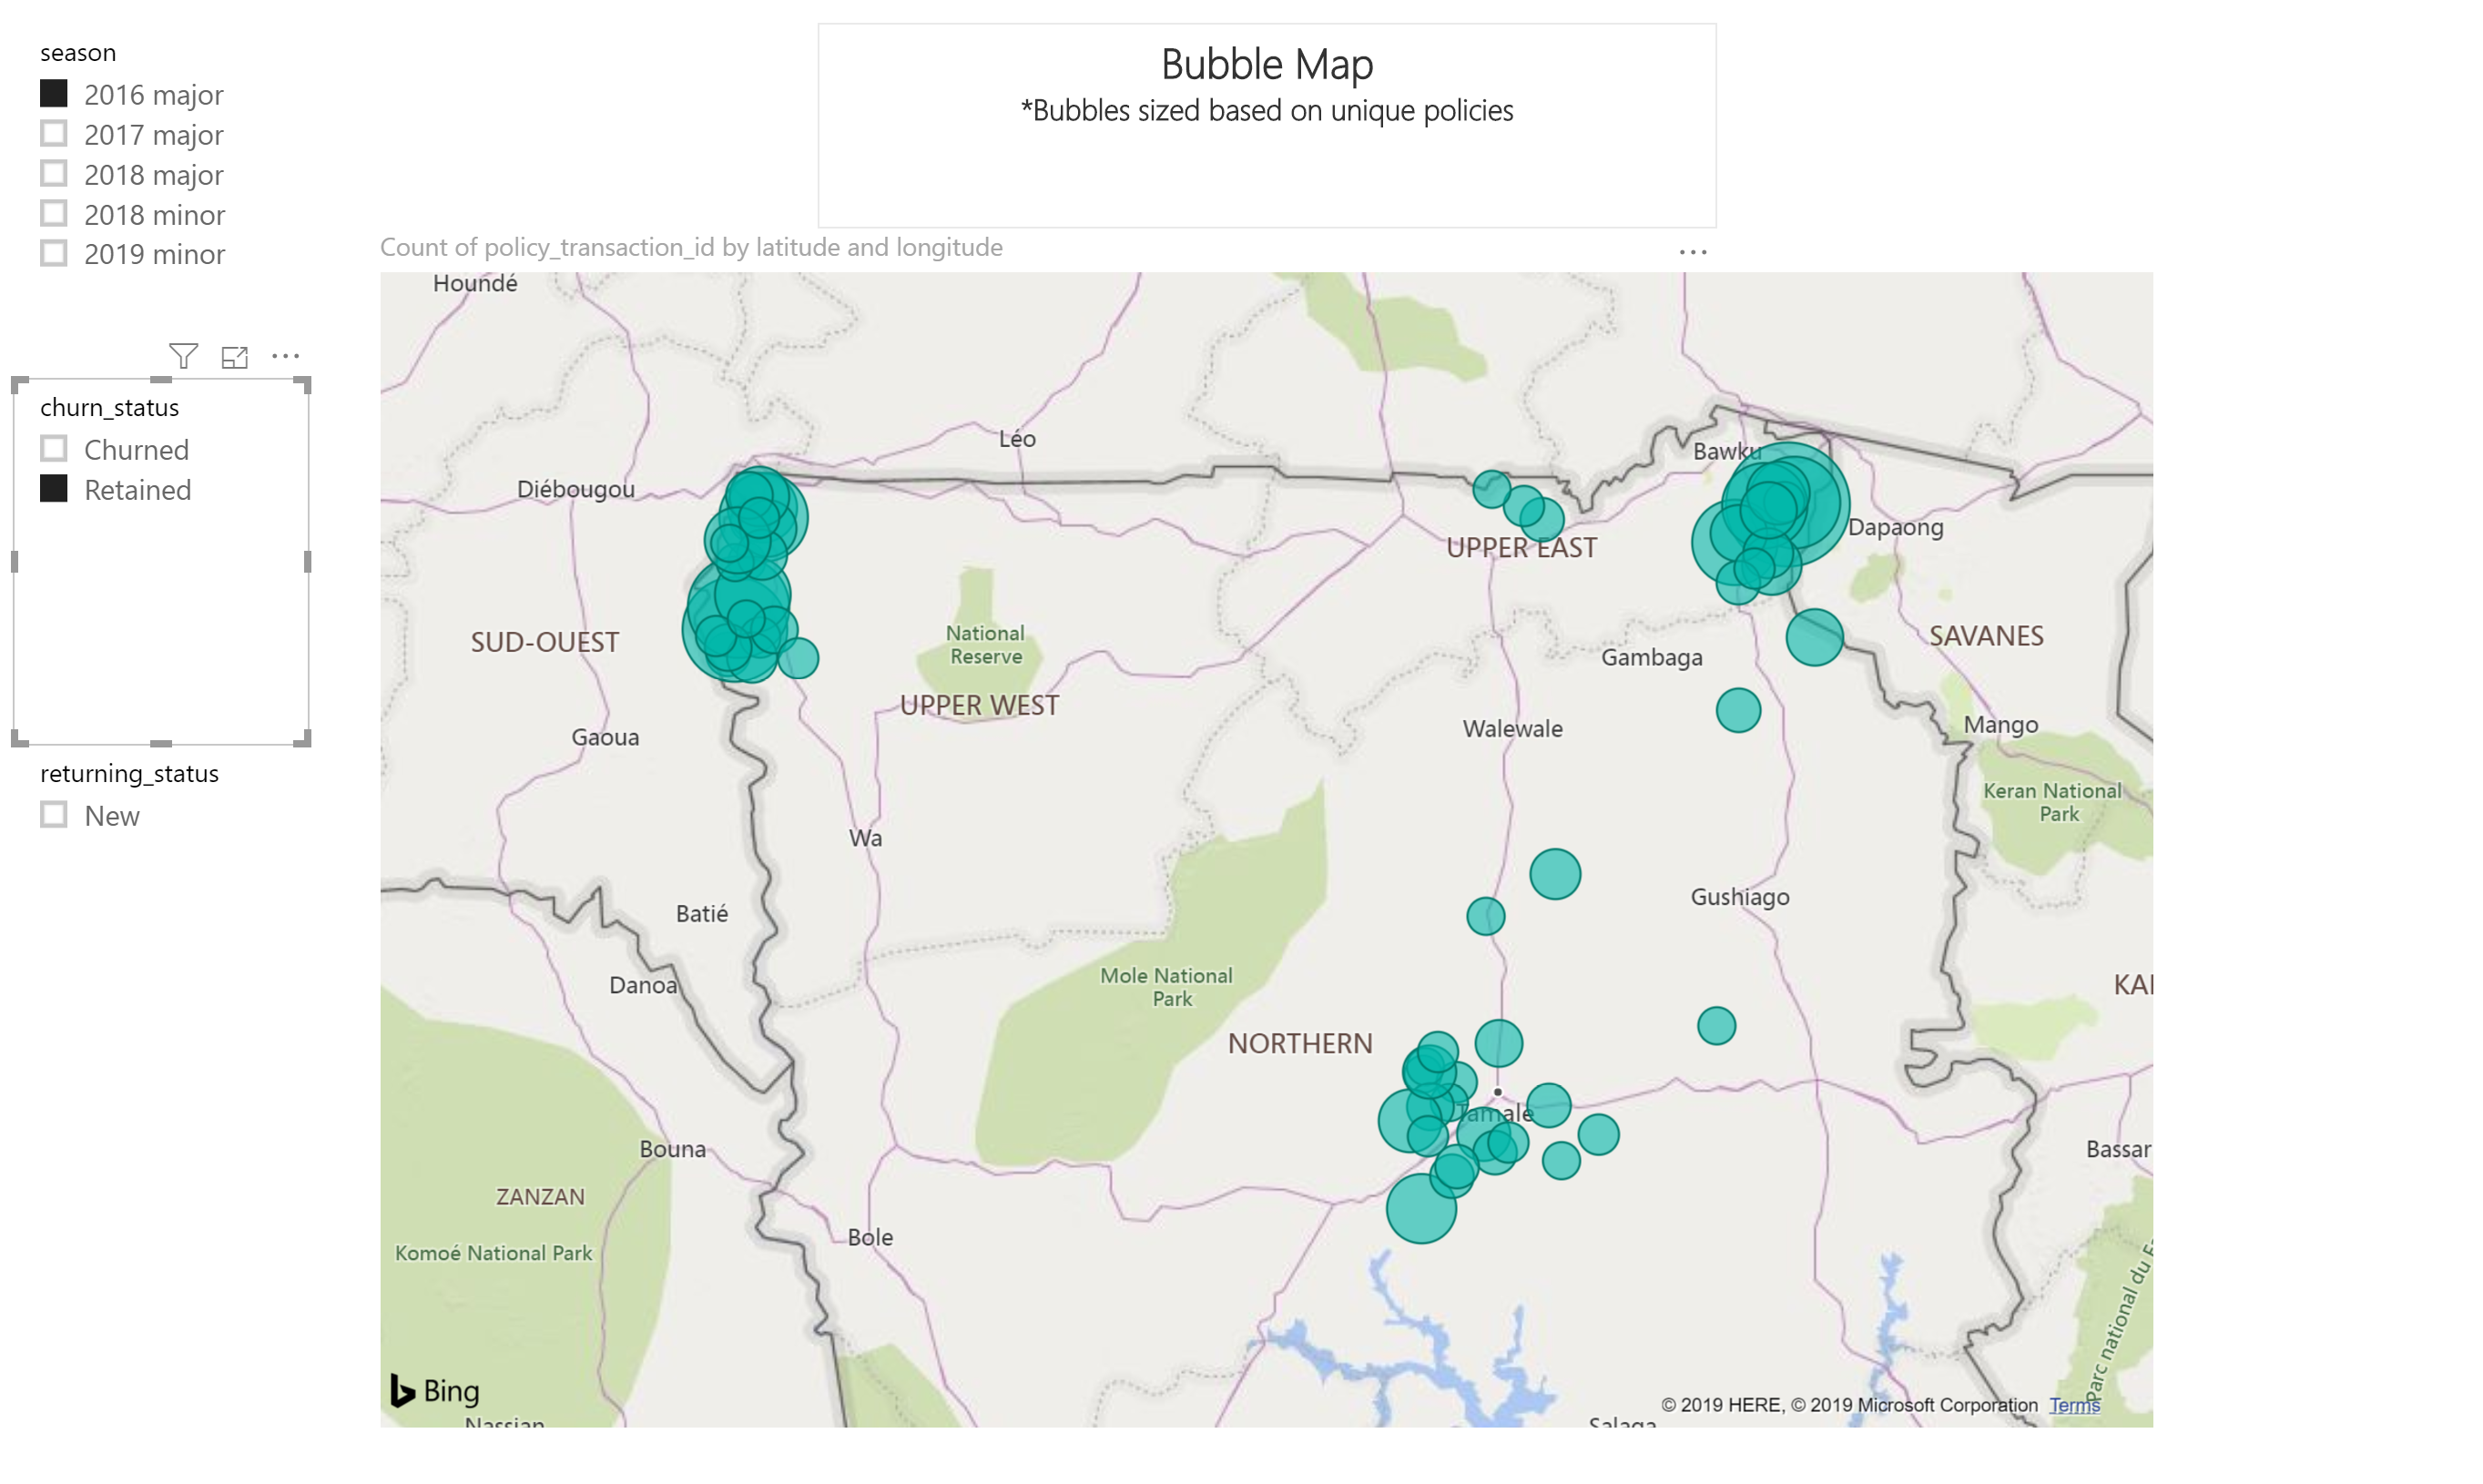

This screenshot's page, from the dashboard's own definition file:
{"tool":"powerbi","page":{"name":"Map","canvas":[1280,720],"ordinal":4},"visuals":[{"type":"map","fields":{"X":["Final_table.longitude"],"Y":["Final_table.latitude"],"Size":["CountNonNull(Final_table.policy_transaction_id)"]},"box":[181.4,114.5,853.6,575.5],"z":0},{"type":"textbox","box":[394.1,16.4,428.2,98.2],"z":1000},{"type":"slicer","fields":{"Values":["Final_table.season"]},"box":[10.9,16.4,141.8,174.5],"z":2000},{"type":"slicer","fields":{"Values":["Final_table.churn_status"]},"box":[10.9,185.5,141.8,174.5],"z":3000},{"type":"slicer","fields":{"Values":["Final_table.returning_status"]},"box":[10.9,360,141.8,174.5],"z":4000}]}

Visuals, with their boxes on the page's 1280x720 design canvas (x1, y1, x2, y2). These are canvas units, not pixel positions in the 2483x1484 screenshot, which may show the page scaled, cropped or inside an application window:
map - Final_table.longitude x Final_table.latitude: 181,114,1035,690
textbox: 394,16,822,115
slicer - Final_table.season: 11,16,153,191
slicer - Final_table.churn_status: 11,186,153,360
slicer - Final_table.returning_status: 11,360,153,534
